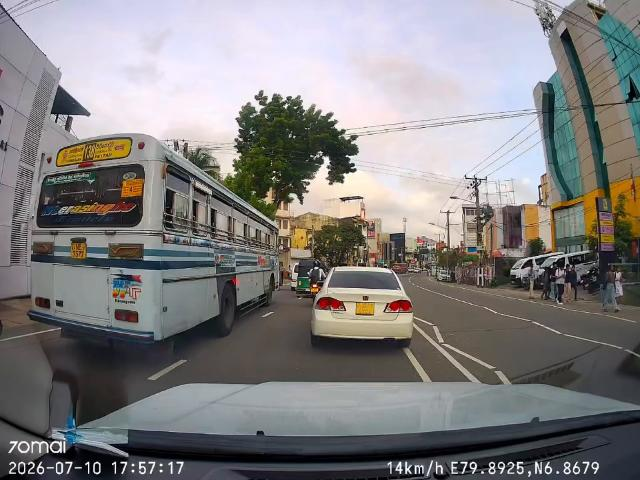number plate: (67, 239, 95, 265), (356, 301, 376, 319)
